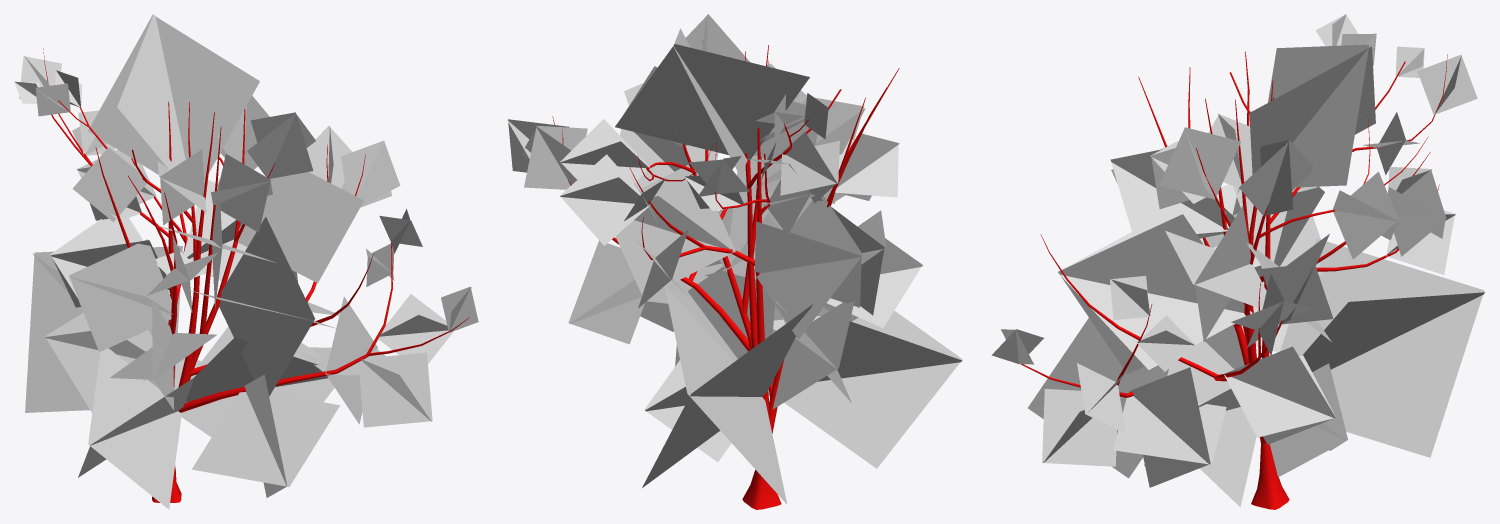
Rendered from oak1.fbx.
3 renders of one model, left to right at view 1: azimuth 30°, elevation 25°; view 2: azimuth 150°, elevation 25°; view 3: azimuth 270°, elevation 25°, orthographic. The views are drawn at different scales.
Parts seen in each view (by area): view 1: tree_003.013, tree_003; view 2: tree_003.013, tree_003; view 3: tree_003.013, tree_003.
Part boxes in pixels (x1,y1,x2,y2): tree_003.013: (14, 14, 478, 509); tree_003: (43, 48, 469, 502); tree_003.013: (507, 14, 962, 504); tree_003: (552, 41, 899, 509); tree_003.013: (991, 14, 1484, 507); tree_003: (1021, 51, 1447, 509).
Size of the model in its own units: 23.48 by 27.8 by 26.21.
